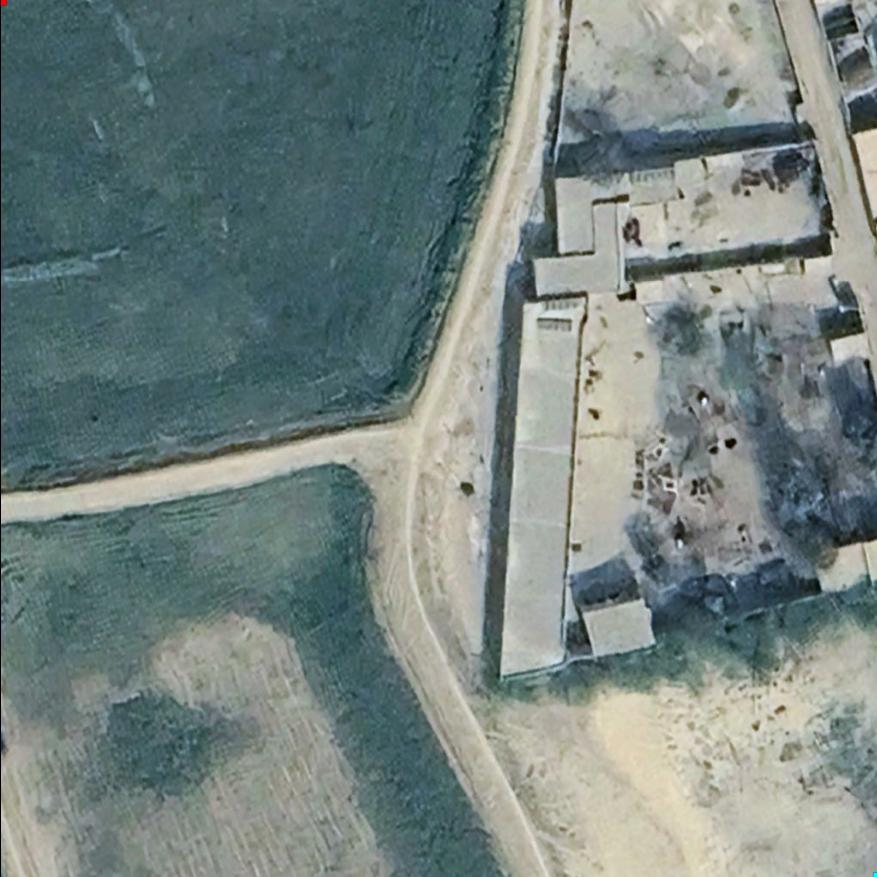Solarpanel: (538, 296, 587, 313), (532, 317, 575, 335)
